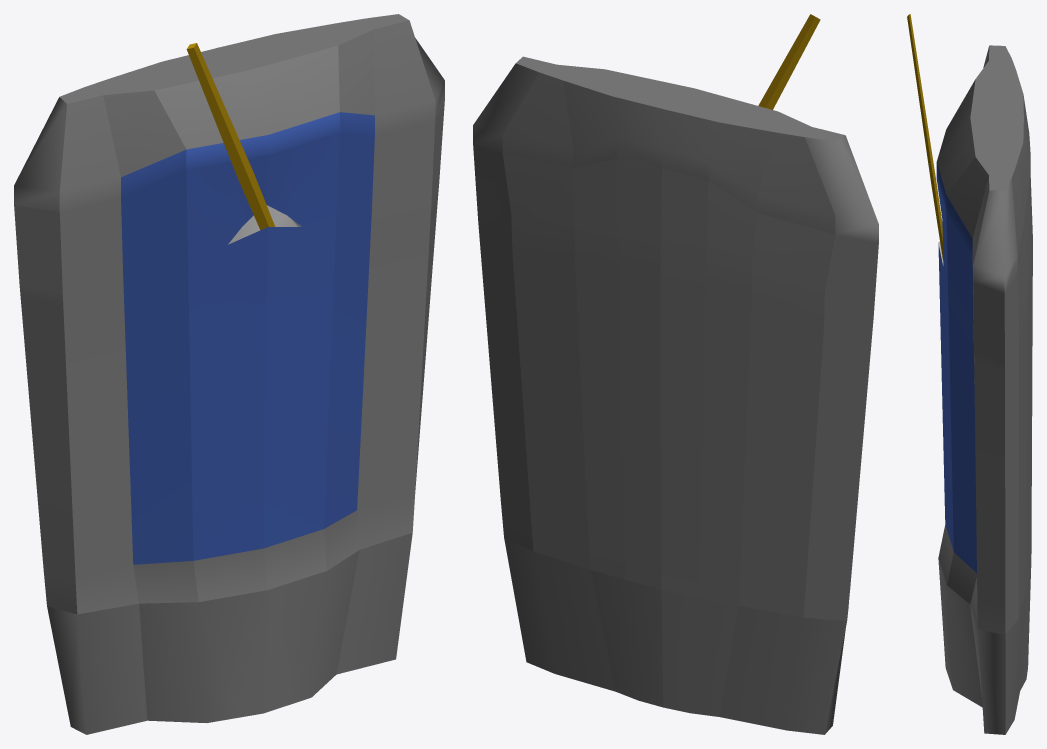
File: caprisun_V3.fbx
3 views of the same model, side by side, from view 1: azimuth 30°, elevation 25°; view 2: azimuth 150°, elevation 25°; view 3: azimuth 270°, elevation 25° (orthographic). The views are drawn at different scales.
Parts seen in each view (by area): view 1: CAPRI_SUN, STRAW1; view 2: CAPRI_SUN, STRAW1; view 3: CAPRI_SUN, STRAW1.
Boxes of the visible parts, left/top/right/bottom form: CAPRI_SUN: left=14, top=14, right=444, bottom=734; STRAW1: left=186, top=43, right=275, bottom=230; CAPRI_SUN: left=473, top=56, right=878, bottom=734; STRAW1: left=758, top=14, right=820, bottom=109; CAPRI_SUN: left=936, top=45, right=1032, bottom=734; STRAW1: left=907, top=14, right=943, bottom=260.
Size of the model in its own units: 2.3 by 3.62 by 0.6711.
